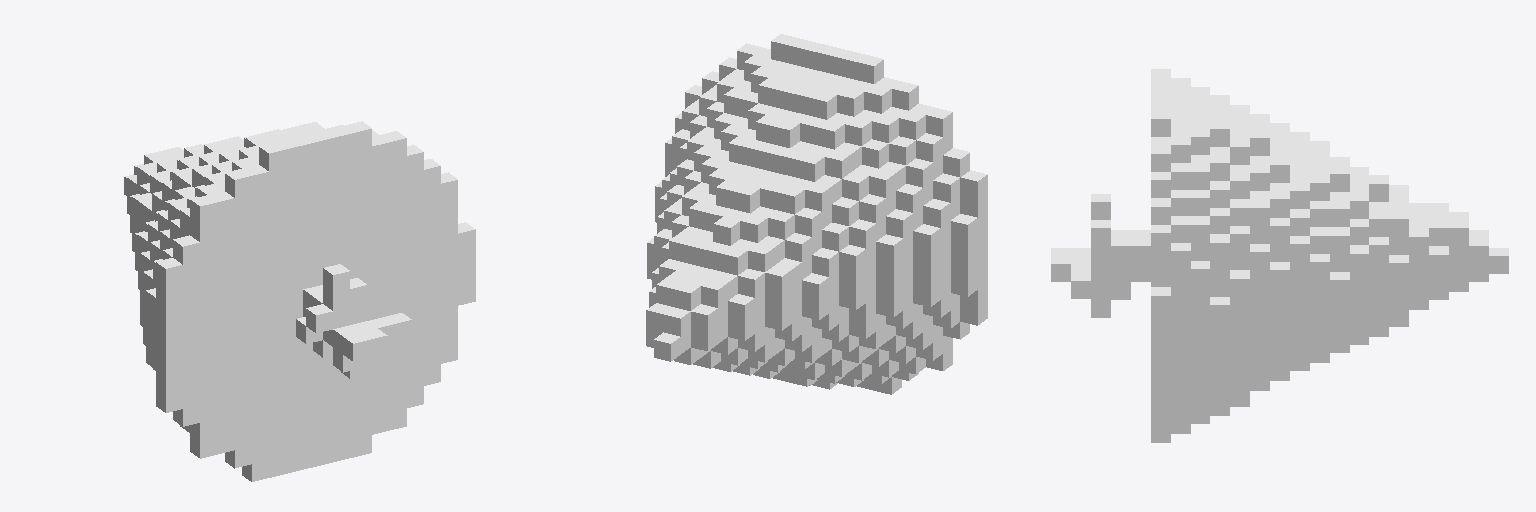
Rendered from Zanahorias.obj.
3 views of the same model, side by side, from view 1: azimuth 30°, elevation 25°; view 2: azimuth 150°, elevation 25°; view 3: azimuth 270°, elevation 25° (orthographic).
Visible parts, largest first — view 1: object 1; view 2: object 1; view 3: object 1.
Part boxes in pixels (x1,y1,x2,y2): object 1: (124,121,475,481); object 1: (646,34,987,394); object 1: (1051,69,1508,442).
Bounding box in the file's own units: 1.8 × 1.8 × 2.3.